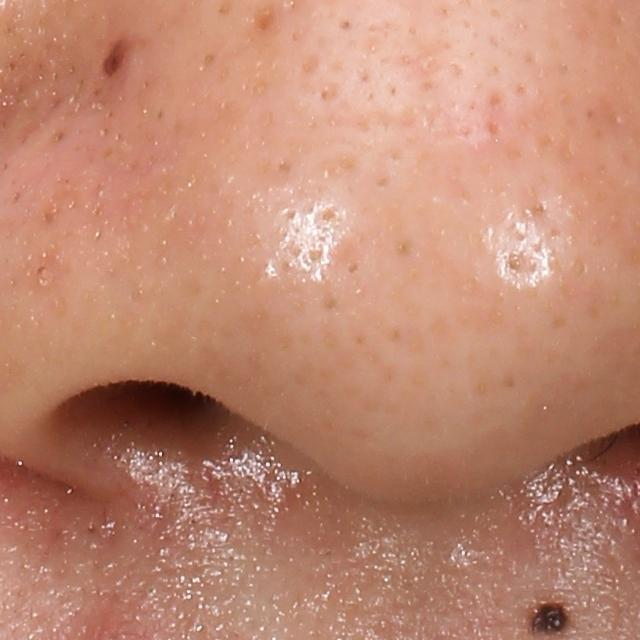nevus: (528, 598, 569, 637), (100, 34, 136, 78)
